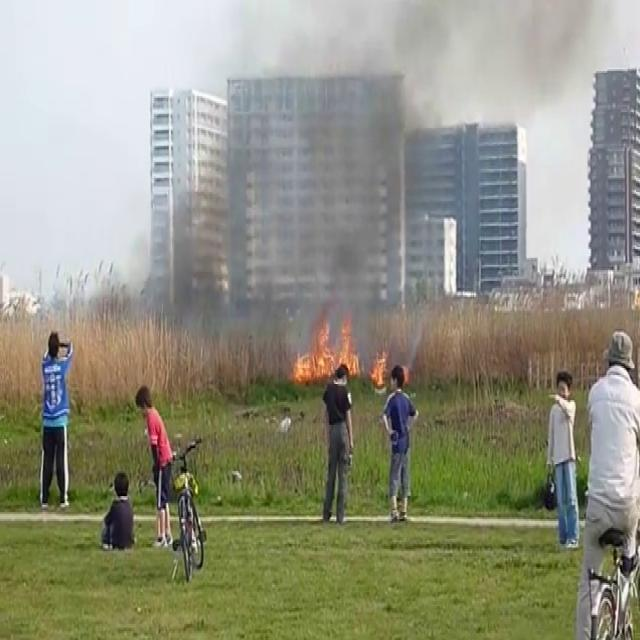Fire: (290, 306, 364, 386)
Smoke: (223, 0, 615, 336)
